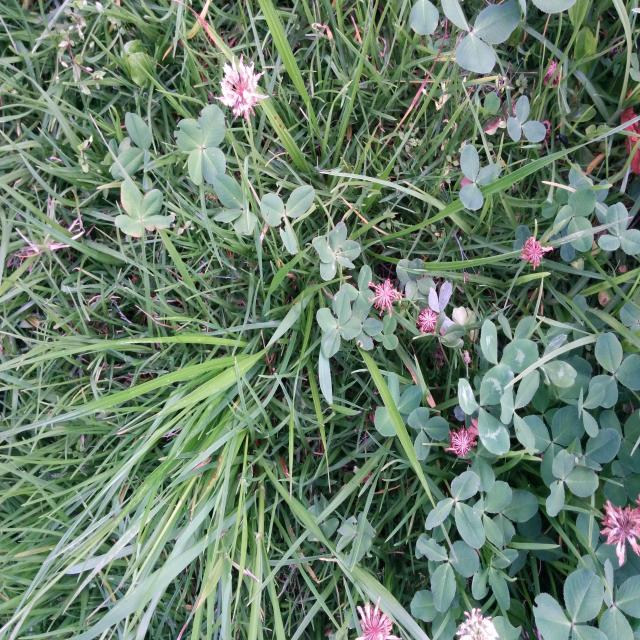Four Leaf Clover: (174, 105, 226, 185), (316, 291, 360, 355), (114, 180, 162, 236), (313, 222, 359, 279)
